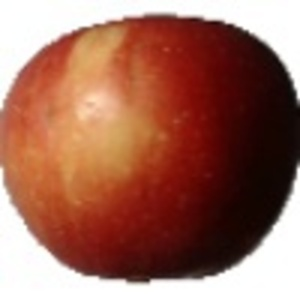maçã braeburn: (1, 13, 300, 280)
